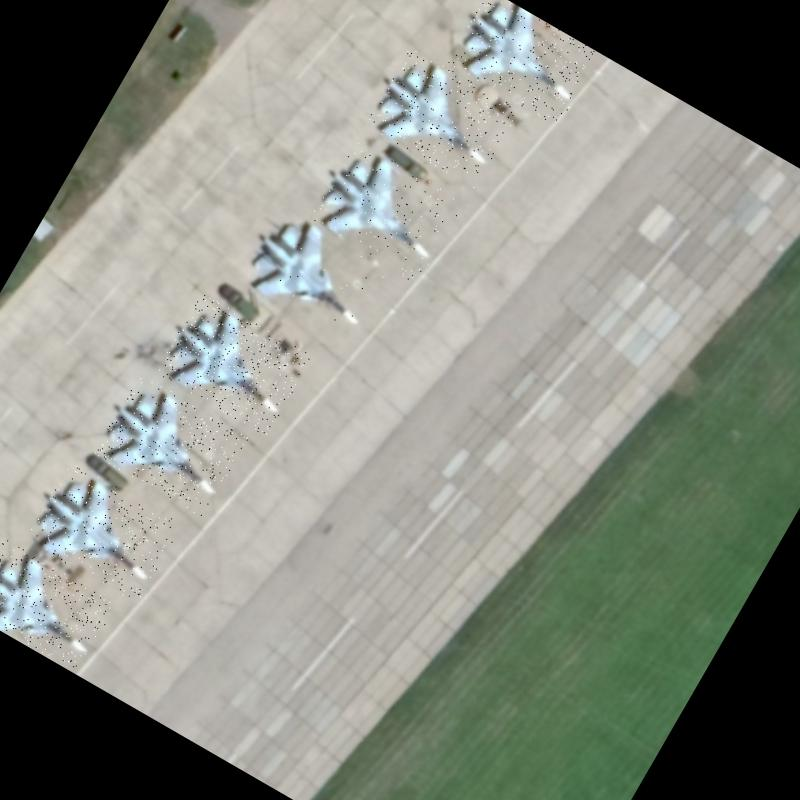A1: (308, 139, 464, 285), (364, 46, 520, 190), (447, 0, 601, 127)
A19: (155, 292, 313, 437), (92, 373, 250, 518), (24, 461, 182, 604), (238, 204, 394, 346), (0, 538, 118, 674)
